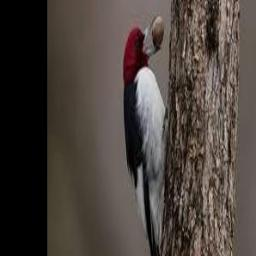Woodpecker: (123, 14, 168, 256)
